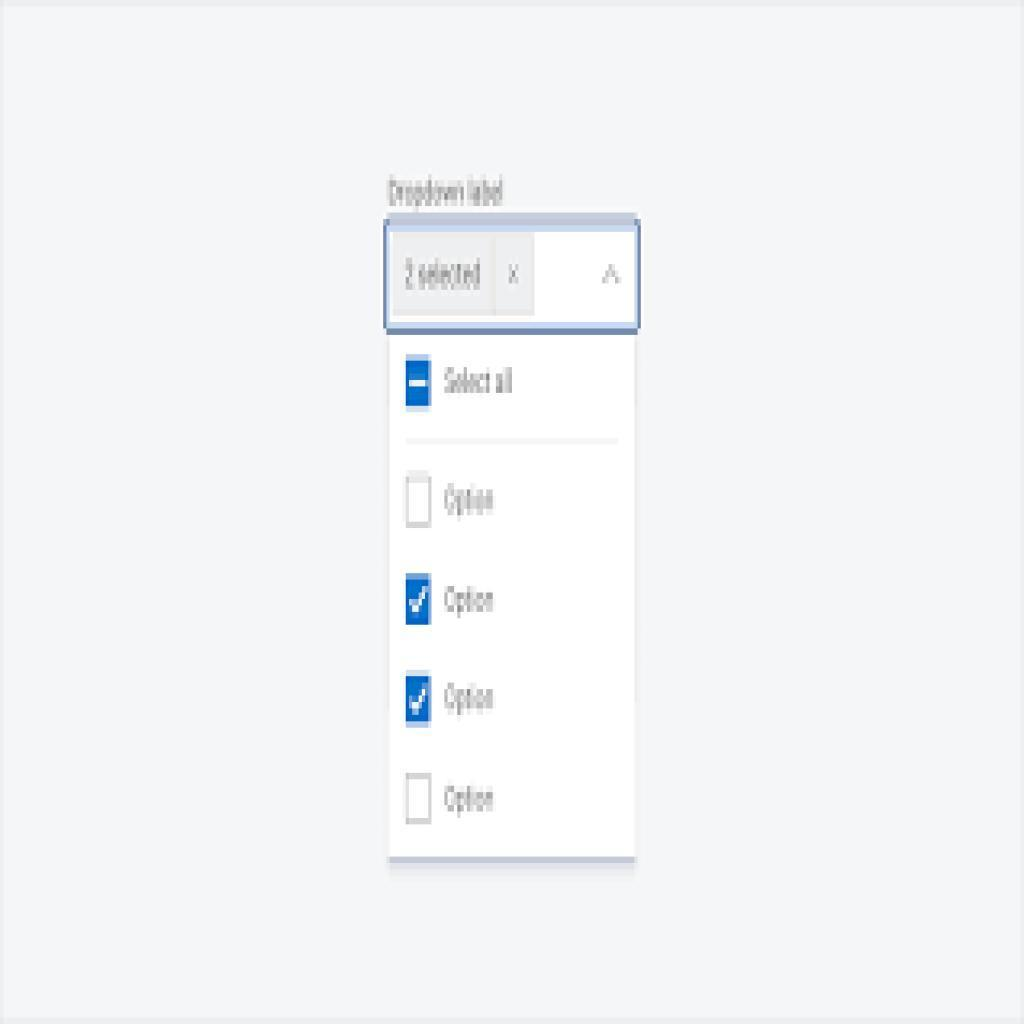checkbox: (406, 669, 434, 729), (405, 473, 434, 529), (406, 356, 434, 413), (405, 573, 435, 626), (405, 774, 432, 825)
dropdown: (384, 214, 641, 337)
label: (442, 361, 519, 402), (441, 678, 501, 723), (442, 481, 501, 524), (441, 581, 503, 621), (440, 784, 498, 822)
